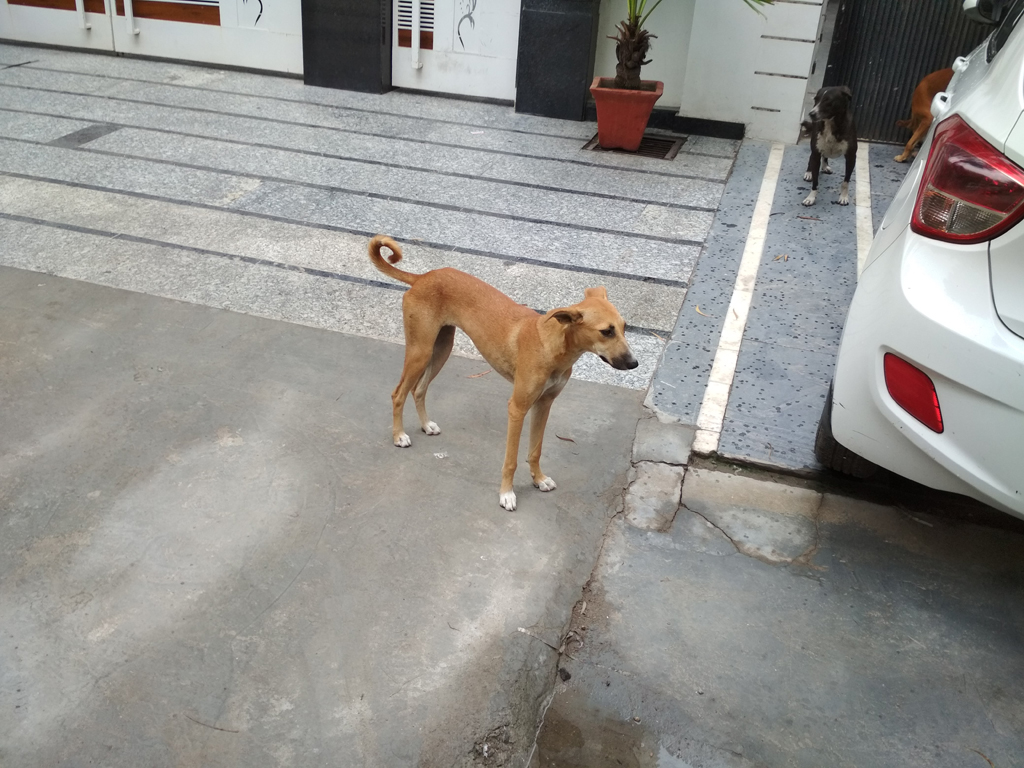dog: (367, 237, 636, 511), (802, 82, 859, 208)
